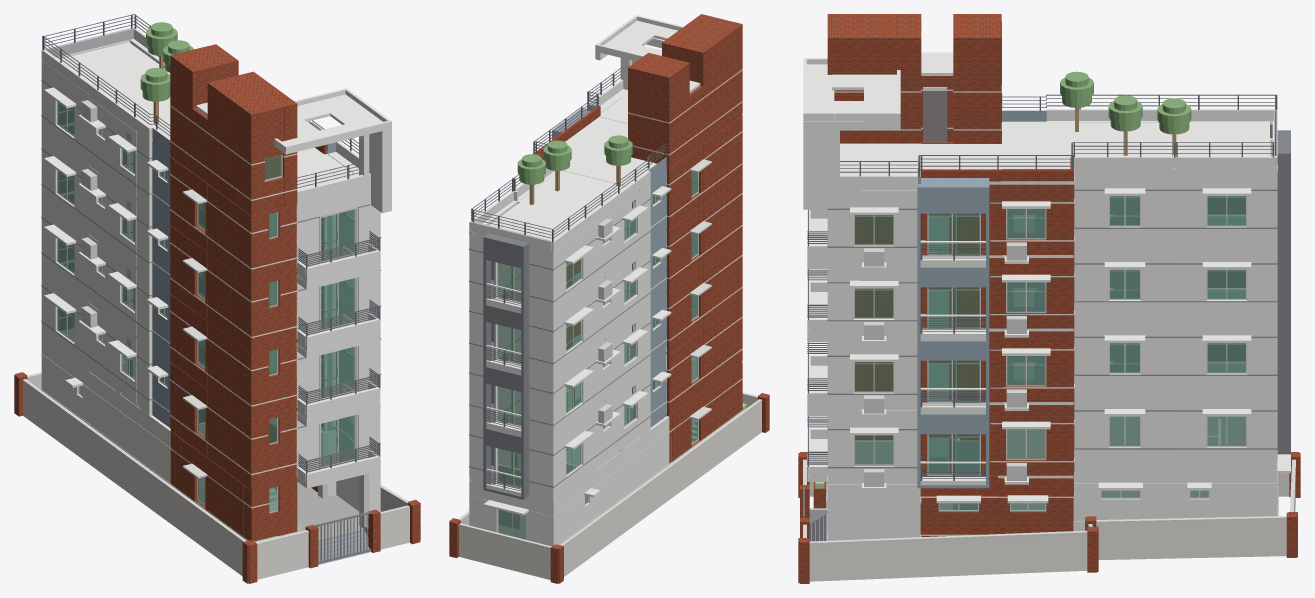
The picture shows the model from 3 angles, left to right: view 1: azimuth 30°, elevation 25°; view 2: azimuth 150°, elevation 25°; view 3: azimuth 270°, elevation 25°; orthographic projection. The views are drawn at different scales.
Parts seen in each view (by area): view 1: BOUNDARY#859, pylon_head#542, GROUND_FLOOR/full_wall#1928, zone#1593, zone#1560, zone#1582, zone#1571, pylon_head#543, slab#541, zone#0, plinth#813, pylon_head#545 (+81 smaller); view 2: BOUNDARY#859, pylon_head#542, GROUND_FLOOR/full_wall#1928, pylon_head#543, BOUNDARY#855, slab#535, zone#1593, zone#1560, zone#1571, zone#1582, his_balcony_frame/cheek#1385, pylon_head#549 (+61 smaller); view 3: BOUNDARY#843, BOUNDARY#851, pylon_head#545, pylon_head#546, GROUND_FLOOR/full_wall#2330, his_balcony_frame/cheek#1386, slab#532, crown_support#706, GROUND_FLOOR/room_wall#1897, slab#541, slab#535, slab#528 (+130 smaller).
Boxes of the visible parts, x1,y1,x2,y2 form: BOUNDARY#859: (23,382,242,576); pylon_head#542: (207,79,264,213); GROUND_FLOOR/full_wall#1928: (89,372,170,482); zone#1593: (207,184,254,281); zone#1560: (207,390,254,487); zone#1582: (207,253,254,350); zone#1571: (207,321,254,418); pylon_head#543: (170,52,205,170); slab#541: (59,42,170,91); zone#0: (205,457,243,536); plinth#813: (301,495,363,541); pylon_head#545: (241,71,297,205); BOUNDARY#859: (564,402,761,576); pylon_head#542: (691,21,742,141); GROUND_FLOOR/full_wall#1928: (596,416,669,516); pylon_head#543: (657,60,689,166); BOUNDARY#855: (459,526,550,579); slab#535: (517,170,626,217); zone#1593: (703,115,742,203); zone#1560: (703,301,742,389); zone#1571: (703,239,742,327); zone#1582: (703,177,742,265); his_balcony_frame/cheek#1385: (521,243,529,499); pylon_head#549: (639,55,677,163); BOUNDARY#843: (809,534,1087,581); BOUNDARY#851: (1096,519,1286,559); pylon_head#545: (827,31,921,143); pylon_head#546: (953,31,1001,143); GROUND_FLOOR/full_wall#2330: (827,484,920,540); his_balcony_frame/cheek#1386: (1277,152,1290,454); slab#532: (1002,121,1074,177); crown_support#706: (803,121,839,209); GROUND_FLOOR/room_wall#1897: (1214,465,1274,517); slab#541: (1177,122,1269,156); slab#535: (1074,122,1176,156); slab#528: (921,144,1001,169).
Size of the model in its own units: 8.06 by 20.24 by 18.89.
21 materials, 1 textured.
